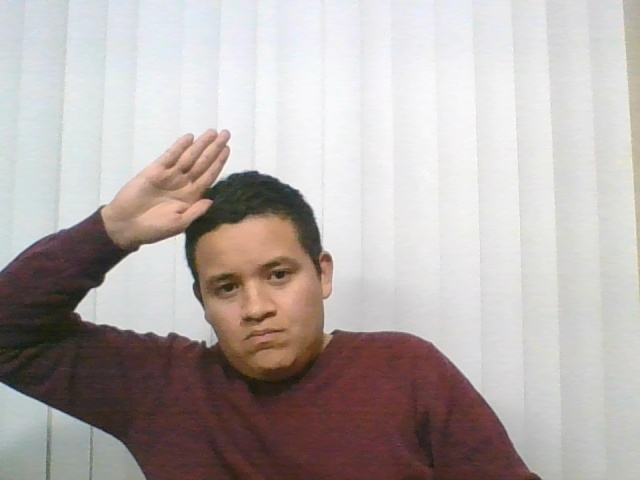Dad: (69, 118, 306, 268)
